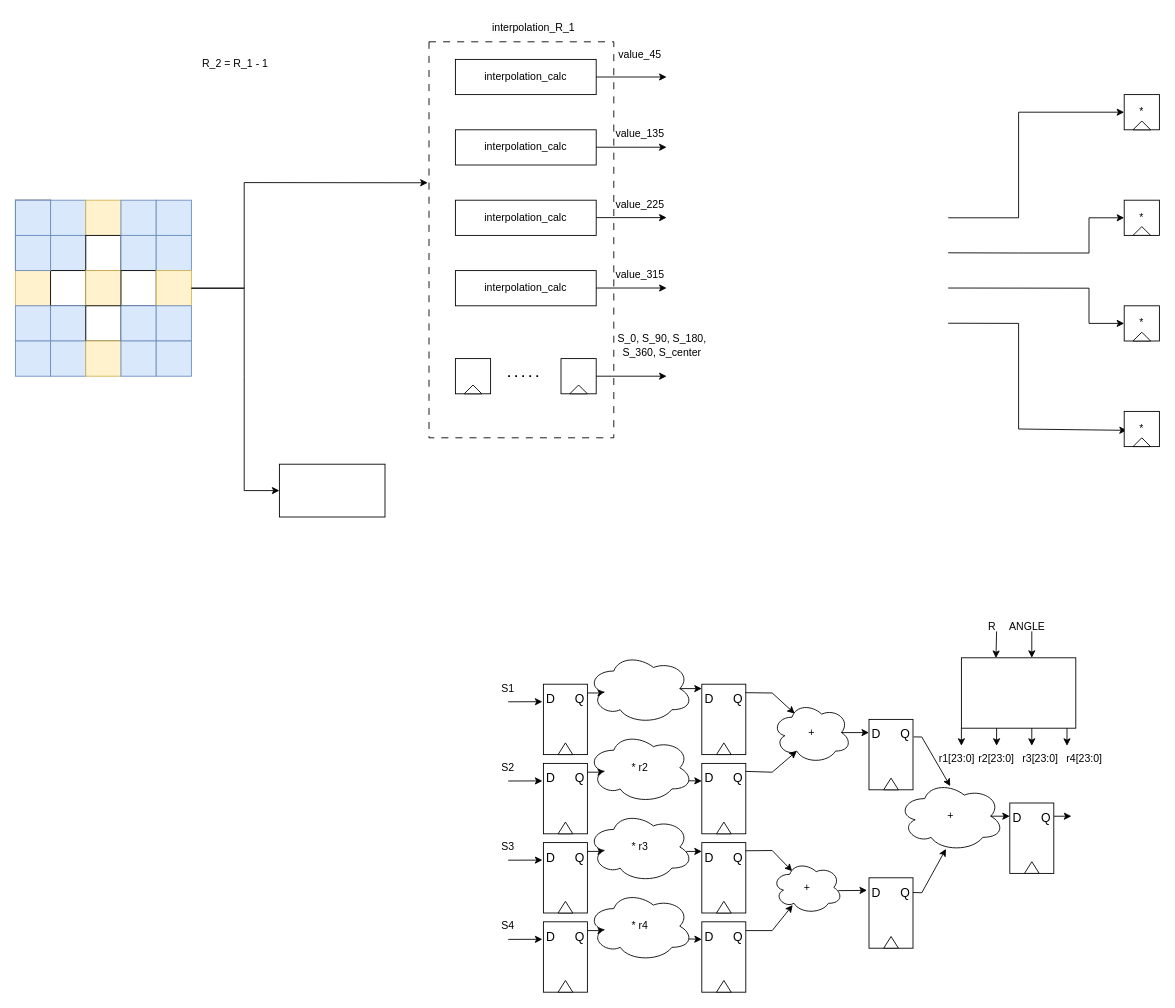
Some shapes in this 1175 by 1008 pixel diagram are drawn without their labels. The shapes that lost their labels are listed below. From the top down, each one's centre as x and y in pixels, then its label:
point 332,490: interpolation_R_2
point 640,688: * r1
point 1018,692: Lookup Table
